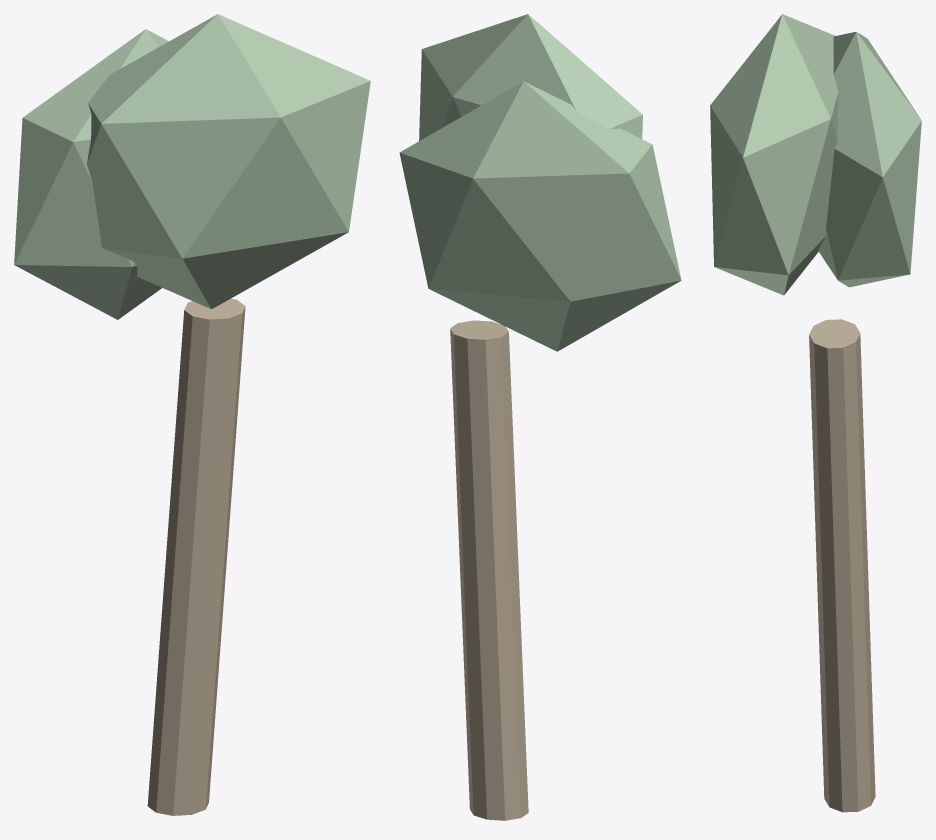
The model's file is TREE_EUCALYPTUS_001_LOD_MAP.glb.
The picture shows the model from 3 angles, left to right: view 1: azimuth 30°, elevation 25°; view 2: azimuth 150°, elevation 25°; view 3: azimuth 270°, elevation 25°; orthographic projection. The views are drawn at different scales.
Visible parts, largest first — view 1: TREE_EUCALYPTUS_001_CANOPY_001_C_LOD_MAP, TREE_EUCALYPTUS_001_TRUNK_001_LOD_MAP, TREE_EUCALYPTUS_001_CANOPY_001_A_LOD_MAP; view 2: TREE_EUCALYPTUS_001_CANOPY_001_A_LOD_MAP, TREE_EUCALYPTUS_001_TRUNK_001_LOD_MAP, TREE_EUCALYPTUS_001_CANOPY_001_C_LOD_MAP; view 3: TREE_EUCALYPTUS_001_CANOPY_001_C_LOD_MAP, TREE_EUCALYPTUS_001_TRUNK_001_LOD_MAP, TREE_EUCALYPTUS_001_CANOPY_001_A_LOD_MAP.
Part boxes in pixels (left/top/right/bottom): TREE_EUCALYPTUS_001_CANOPY_001_C_LOD_MAP: left=87, top=14, right=370, bottom=309; TREE_EUCALYPTUS_001_TRUNK_001_LOD_MAP: left=147, top=298, right=245, bottom=815; TREE_EUCALYPTUS_001_CANOPY_001_A_LOD_MAP: left=14, top=29, right=168, bottom=319; TREE_EUCALYPTUS_001_CANOPY_001_A_LOD_MAP: left=399, top=81, right=681, bottom=351; TREE_EUCALYPTUS_001_TRUNK_001_LOD_MAP: left=450, top=320, right=528, bottom=820; TREE_EUCALYPTUS_001_CANOPY_001_C_LOD_MAP: left=419, top=14, right=642, bottom=140; TREE_EUCALYPTUS_001_CANOPY_001_C_LOD_MAP: left=710, top=14, right=838, bottom=295; TREE_EUCALYPTUS_001_TRUNK_001_LOD_MAP: left=809, top=319, right=875, bottom=812; TREE_EUCALYPTUS_001_CANOPY_001_A_LOD_MAP: left=818, top=31, right=921, bottom=287.
Bounding box in the file's own units: 2.02 × 5.12 × 1.22.
